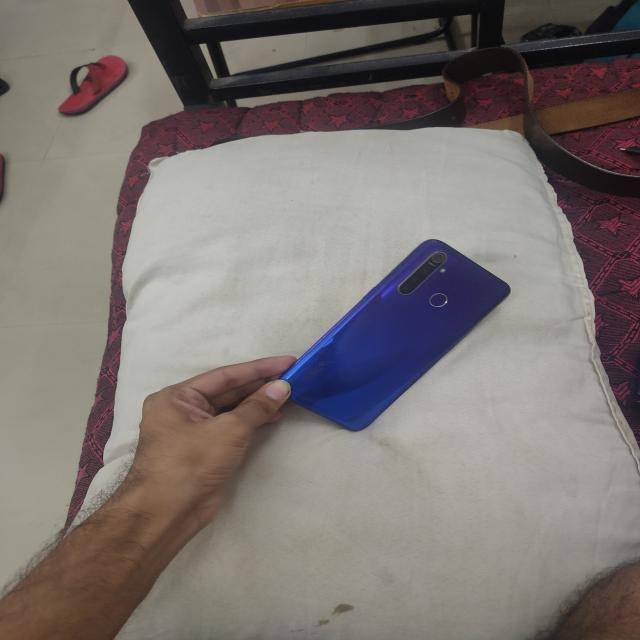Phone: (270, 234, 514, 436)
